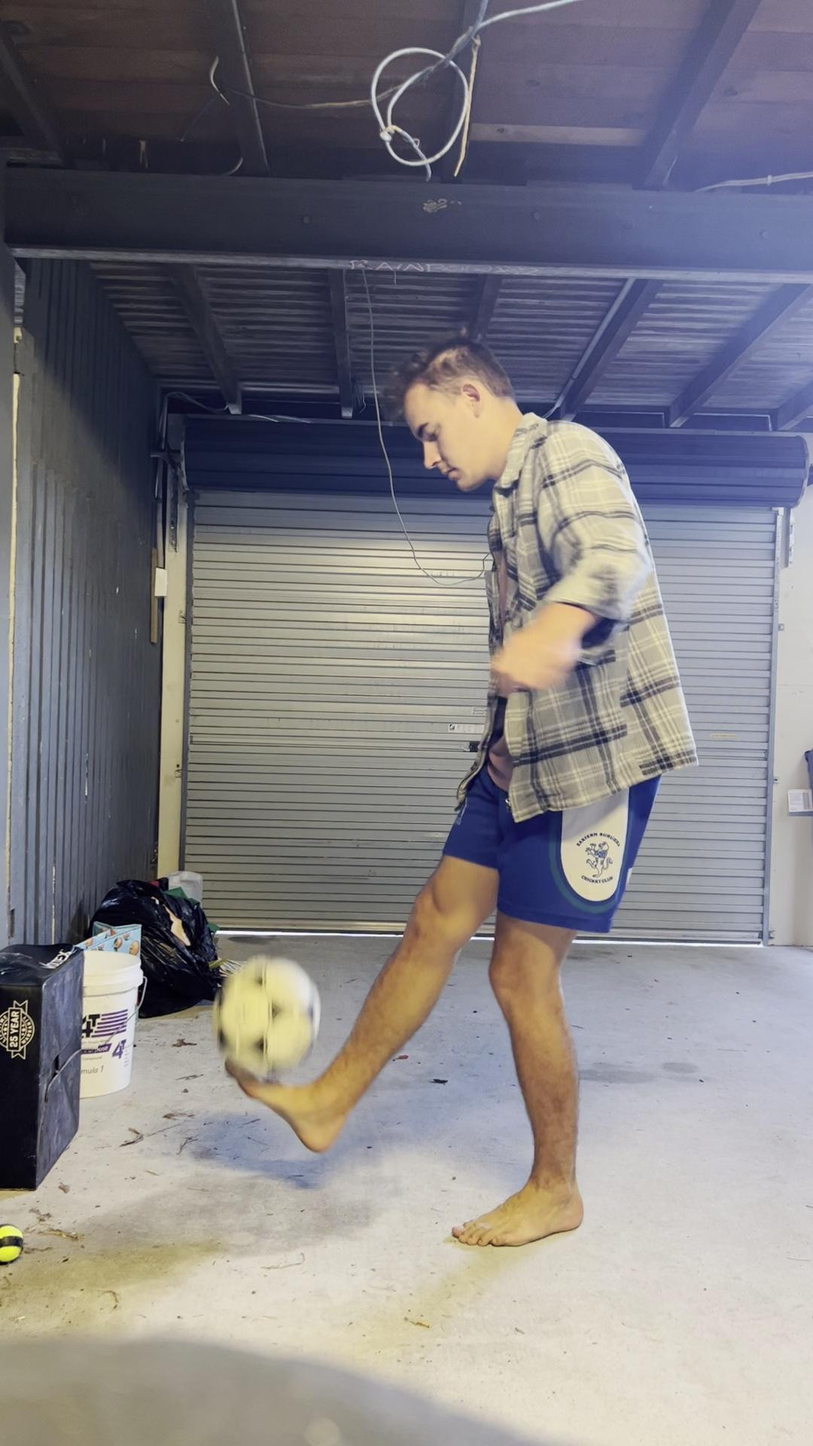ball: (210, 954, 325, 1070)
foot: (221, 1058, 352, 1154), (451, 1167, 585, 1249)
person: (224, 329, 697, 1245)
